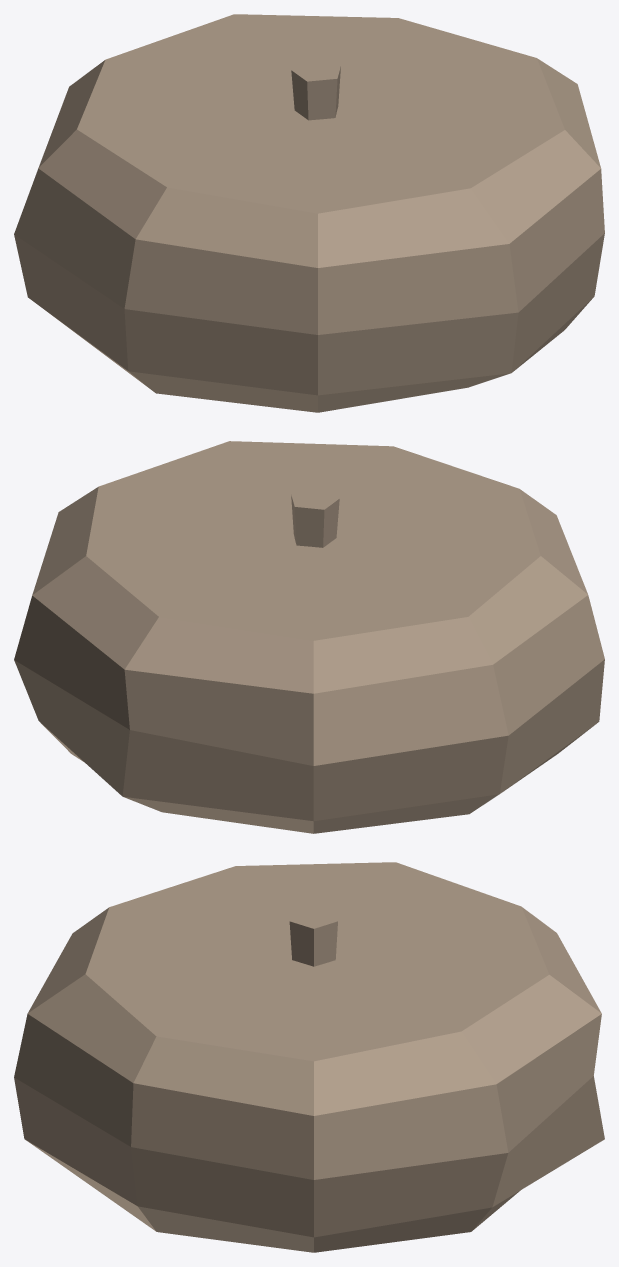
The model's file is tower-storm-parts.glb.
3 views of the same model, one above another, from view 1: azimuth 30°, elevation 25°; view 2: azimuth 150°, elevation 25°; view 3: azimuth 270°, elevation 25° (orthographic). The views are drawn at different scales.
Parts seen in each view (by area): view 1: drum, armHandle; view 2: drum, armHandle; view 3: drum, armHandle.
Boxes of the visible parts, box(x1,y1,x2,y2) form: drum: box(14, 14, 604, 412); armHandle: box(291, 60, 340, 120); drum: box(14, 441, 604, 833); armHandle: box(291, 489, 339, 547); drum: box(14, 862, 604, 1252); armHandle: box(289, 909, 337, 966).
Size of the model in its own units: 1.34 by 0.7 by 1.37.
